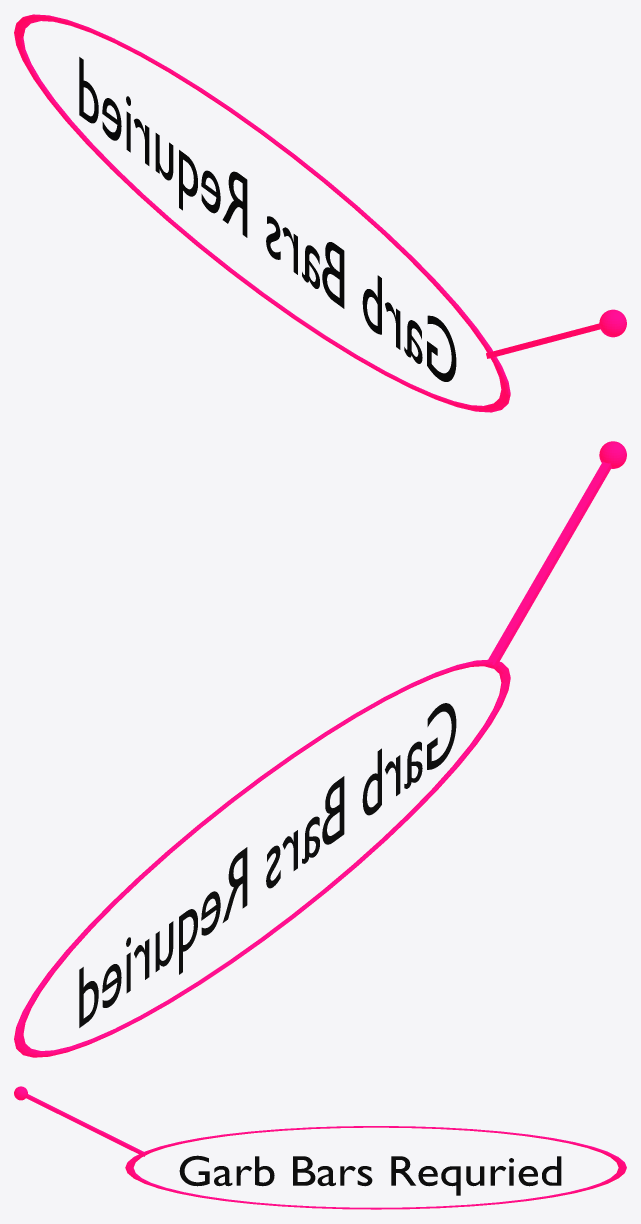
Rendered from Bars.glb.
The picture shows the model from 3 angles, top to bottom: view 1: azimuth 30°, elevation 25°; view 2: azimuth 150°, elevation 25°; view 3: azimuth 270°, elevation 25°; orthographic projection. The views are drawn at different scales.
Parts seen in each view (by area): view 1: Torus, Text; view 2: Torus, Text; view 3: Text, Torus.
Part boxes in pixels (x1,y1,x2,y2): Torus: [14, 14, 626, 412]; Text: [79, 57, 456, 381]; Torus: [14, 441, 626, 1057]; Text: [79, 703, 456, 1027]; Text: [179, 1155, 561, 1195]; Torus: [14, 1086, 626, 1209].
Size of the model in its own units: 0.1943 by 1.87 by 8.5.
